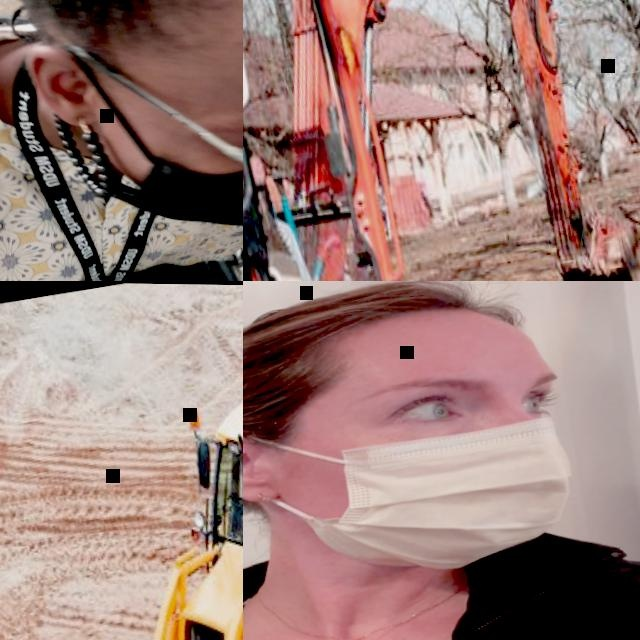Mask: (243, 372, 591, 600), (67, 48, 243, 256)
NO-Hardhat: (243, 281, 534, 412), (22, 0, 243, 74)
NO-Safety Vest: (0, 34, 243, 281), (243, 517, 640, 640)
Person: (243, 281, 640, 640), (0, 0, 243, 281), (247, 137, 364, 281)
machinery: (243, 0, 640, 281), (0, 281, 243, 640)
